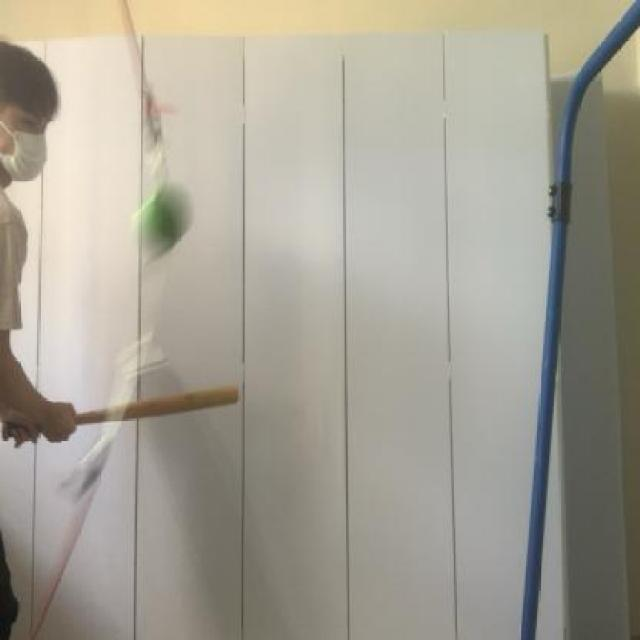baseball: (132, 175, 198, 256)
